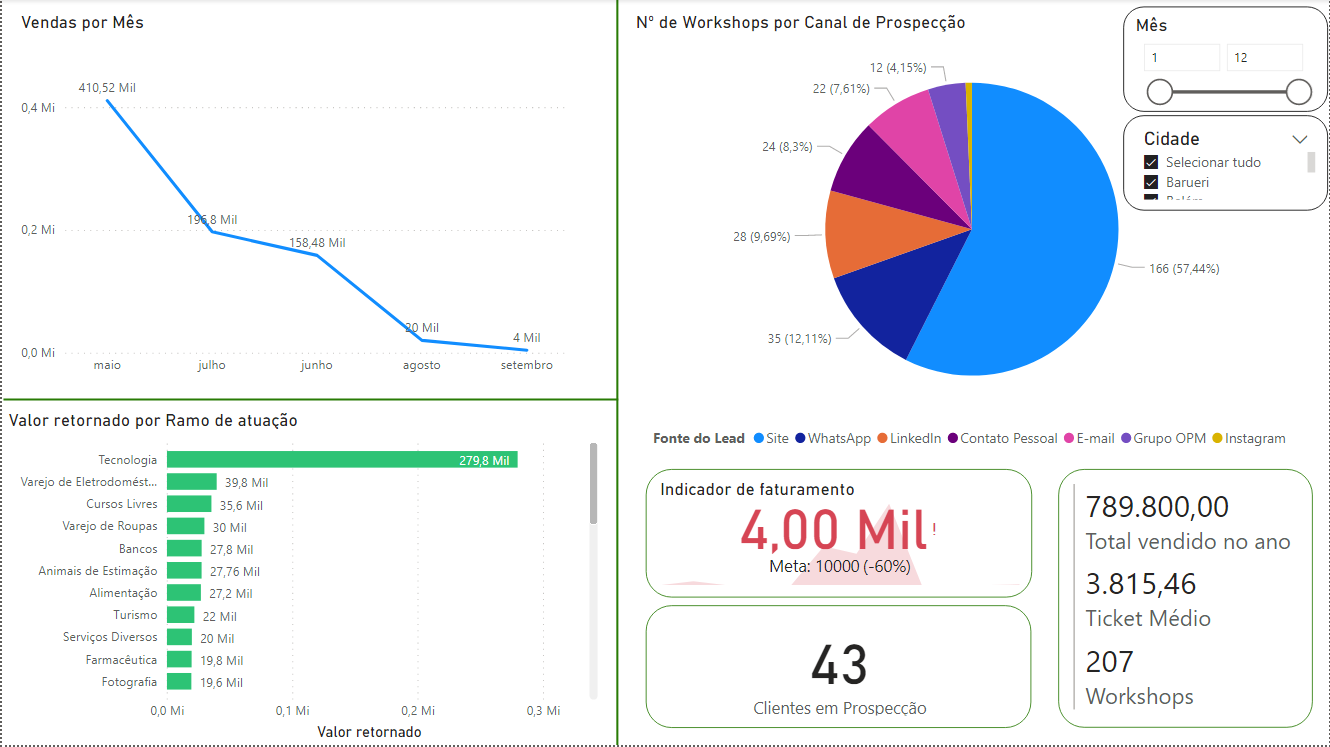

The page's visual inventory and layout, read from the dashboard file:
{"tool":"powerbi","page":{"name":"Informações principais","canvas":[1280,720],"ordinal":0},"visuals":[{"type":"lineChart","fields":{"Y":["BaseTransacao.Vendas"],"Category":["BaseCalendario.Nome do Mês"]},"box":[13.7,12.4,538.4,359.8],"z":0},{"type":"clusteredBarChart","fields":{"Category":["BaseInformacao.Ramo de atuação"],"Y":["BaseTransacao.Valor retornado"]},"box":[1.2,395.6,578.9,324.4],"z":1000},{"type":"pieChart","title":"Nº de Workshops por Canal de Prospecção","fields":{"Category":["BaseTransacao.Fonte do Lead"],"Y":["Sum(BaseRecorrencia.# Workshops que já participou)"]},"box":[606.9,11.9,658.6,430.6],"z":2000},{"type":"shape","box":[579.6,0,27.5,719.7],"z":3000},{"type":"shape","box":[1.4,320,593.3,133.2],"z":4000},{"type":"multiRowCard","fields":{"Values":["BaseTransacao.Vendas","BaseTransacao.Ticket Médio","BaseTransacao.Quantidade de vendas no ano"]},"box":[1019.1,453.2,245.8,250],"z":5000},{"type":"card","fields":{"Values":["BaseTransacao.Clientes em Prospecção"]},"box":[620.8,585.1,372.2,118.1],"z":6000},{"type":"slicer","title":"Mês","fields":{"Values":["BaseCalendario.Mês"]},"box":[1081.8,7.2,197.8,101.3],"z":7000},{"type":"slicer","fields":{"Values":["BaseInformacao.Cidade"]},"box":[1081.8,112.2,197.8,91.7],"z":8000},{"type":"kpi","title":"Indicador de faturamento","fields":{"Indicator":["BaseTransacao.Vendas"],"TrendLine":["BaseCalendario.Nome do Mês"],"Goal":["BaseTransacao.Metas 2"]},"box":[621.1,453.5,372.7,124.2],"z":9000}]}

Visuals, with their boxes in screenshot pixels (x1, y1, x2, y2), scaled from the page's 1280x720 canvas onto the 1330x747 screenshot:
lineChart - BaseTransacao.Vendas x BaseCalendario.Nome do Mês: bbox(14, 13, 574, 386)
clusteredBarChart - BaseInformacao.Ramo de atuação x BaseTransacao.Valor retornado: bbox(1, 410, 603, 746)
"Nº de Workshops por Canal de Prospecção" pieChart: bbox(631, 12, 1315, 459)
shape: bbox(602, 0, 631, 746)
shape: bbox(1, 332, 618, 470)
multiRowCard - BaseTransacao.Vendas x BaseTransacao.Ticket Médio: bbox(1059, 470, 1314, 730)
card - BaseTransacao.Clientes em Prospecção: bbox(645, 607, 1032, 730)
"Mês" slicer: bbox(1124, 7, 1329, 113)
slicer - BaseInformacao.Cidade: bbox(1124, 116, 1329, 212)
"Indicador de faturamento" kpi: bbox(645, 471, 1033, 599)
